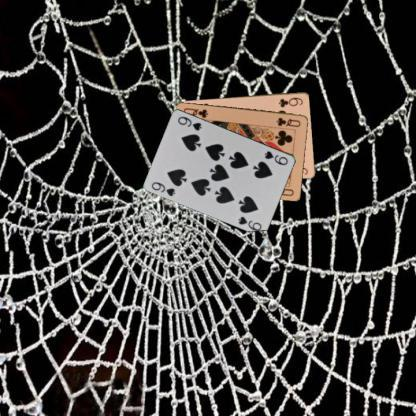6c: (276, 94, 304, 108)
9s: (149, 179, 177, 198), (262, 148, 290, 166)
Qc: (274, 114, 301, 128)
